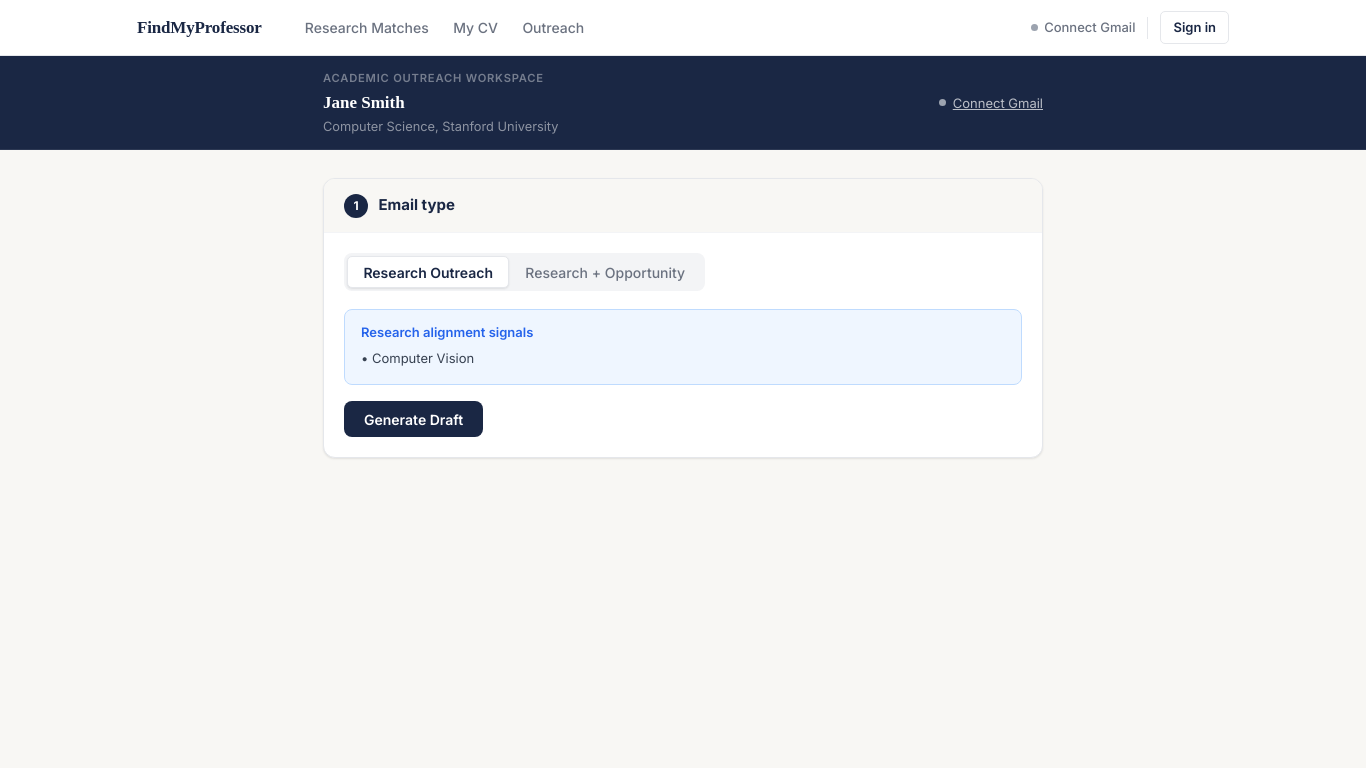
Email compose page › shows Connect Gmail when Gmail is not connected
Expected: the text "Jane Smith" is shown, [323,93,405,112]
What coordinates should you click on to do the following:
click the button "Generate Draft"
I would click on:
 (414, 419)
Its box is [344,401,483,437].
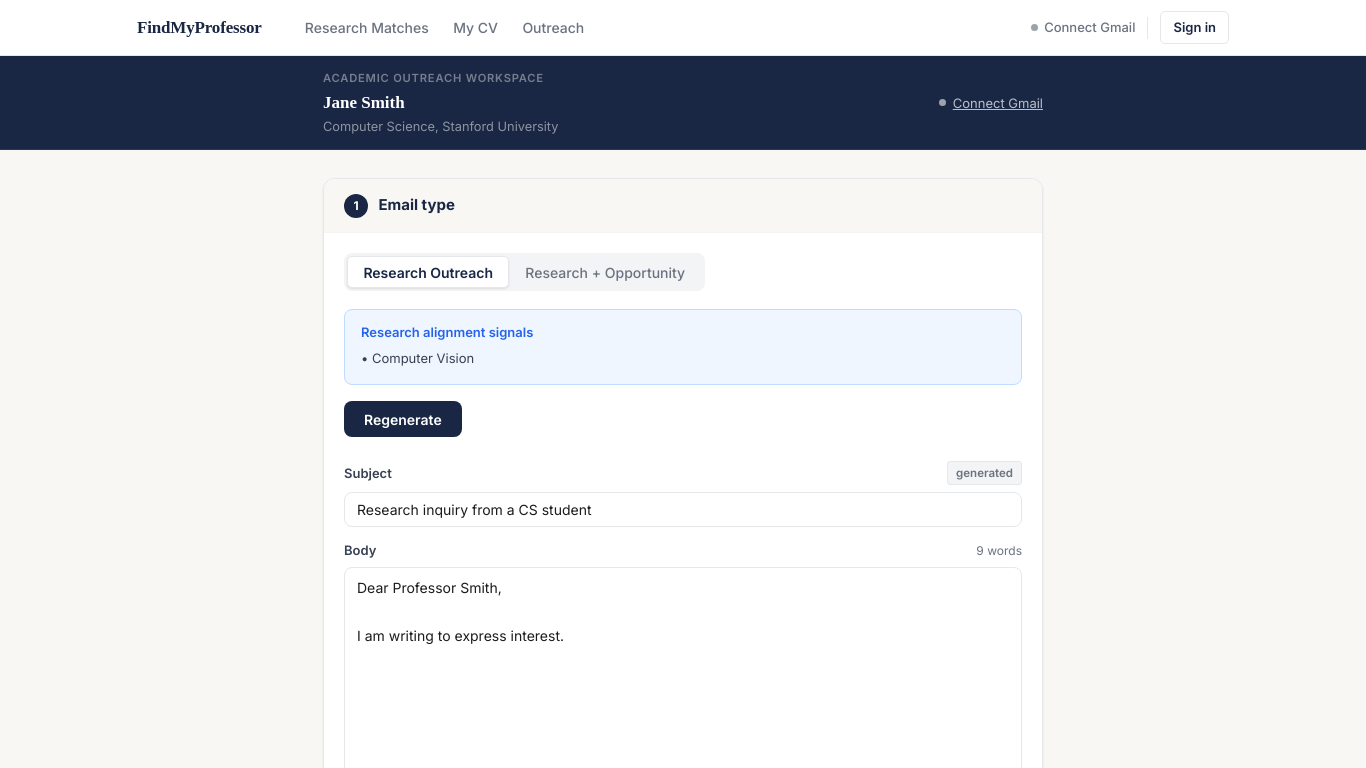
Expected: the link "Connect Gmail" is shown, [1044,18,1136,37]
Expected: the field showing "Research inquiry from a CS student" is shown, [344,492,1022,527]
